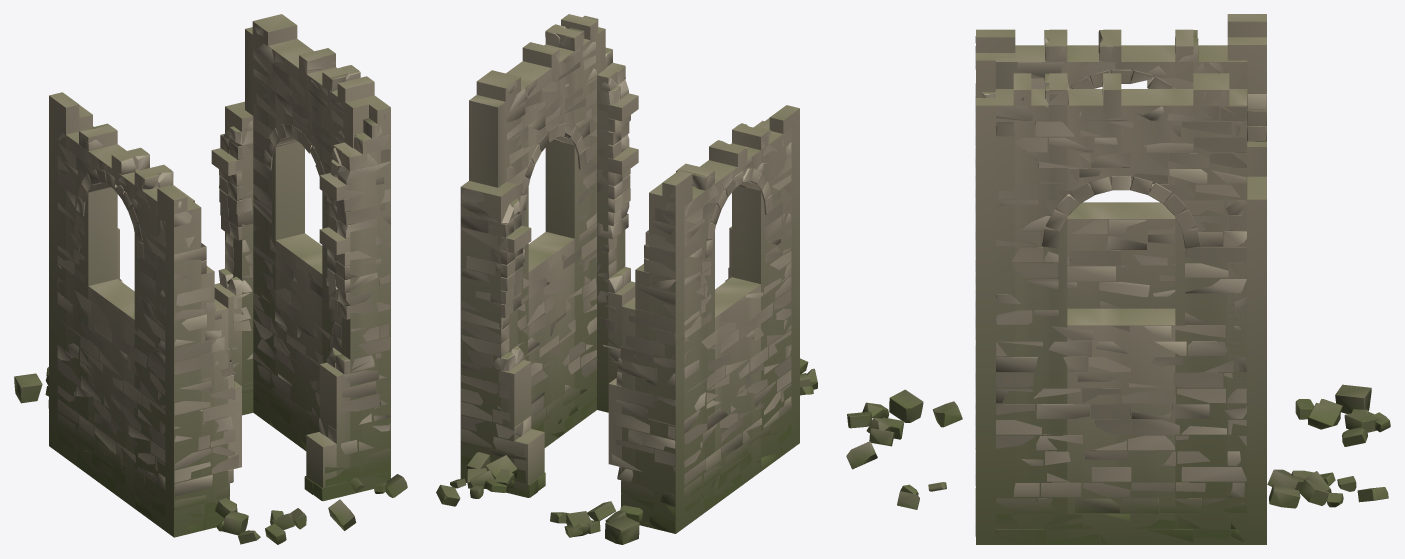
File: citadel_tower_split.glb
The picture shows the model from 3 angles, left to right: view 1: azimuth 30°, elevation 25°; view 2: azimuth 150°, elevation 25°; view 3: azimuth 270°, elevation 25°; orthographic projection. The views are drawn at different scales.
Visible parts, largest first — view 1: citadel_tower_split_far, citadel_tower_split; view 2: citadel_tower_split_far, citadel_tower_split; view 3: citadel_tower_split_far, citadel_tower_split.
Part boxes in pixels (x1,y1,x2,y2): citadel_tower_split_far: (49, 14, 390, 537); citadel_tower_split: (14, 23, 407, 544); citadel_tower_split_far: (460, 14, 799, 533); citadel_tower_split: (436, 24, 817, 544); citadel_tower_split_far: (976, 14, 1266, 544); citadel_tower_split: (846, 30, 1390, 544).
Size of the model in its own units: 37.52 by 63.8 by 69.19.
